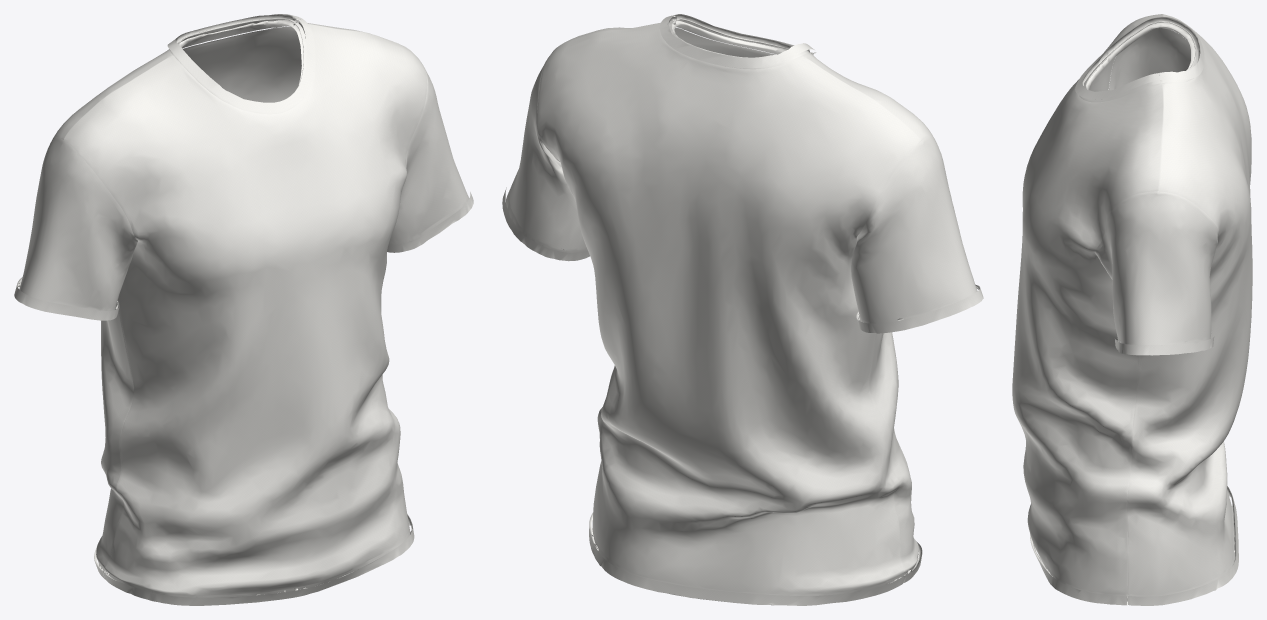
Rendered from tshirt-white-3d.glb.
3 renders of one model, left to right at view 1: azimuth 30°, elevation 25°; view 2: azimuth 150°, elevation 25°; view 3: azimuth 270°, elevation 25°, orthographic. The views are drawn at different scales.
Visible parts, largest first — view 1: HeavyweightTee3D; view 2: HeavyweightTee3D; view 3: HeavyweightTee3D.
Part boxes in pixels (box(x1,y1,x2,y2)): HeavyweightTee3D: box(14, 14, 473, 605); HeavyweightTee3D: box(502, 14, 983, 605); HeavyweightTee3D: box(1012, 14, 1252, 605).
Bounding box in the file's own units: 0.5641 × 0.6181 × 0.269.
Materials: 1 (1 with a texture image).
